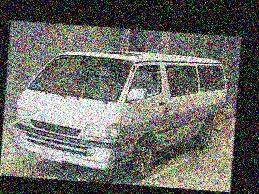van: (11, 42, 227, 180)
